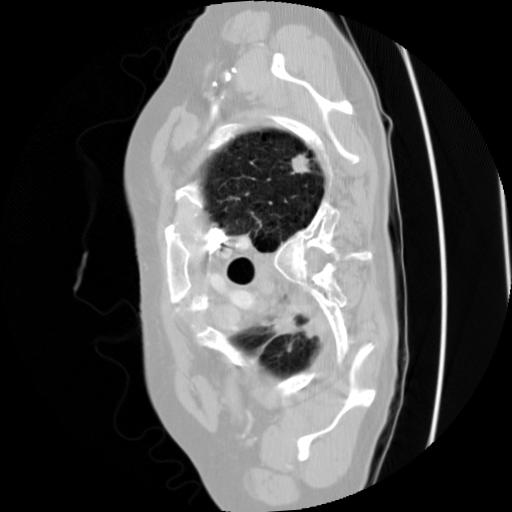nodule: (288, 151, 316, 179)
